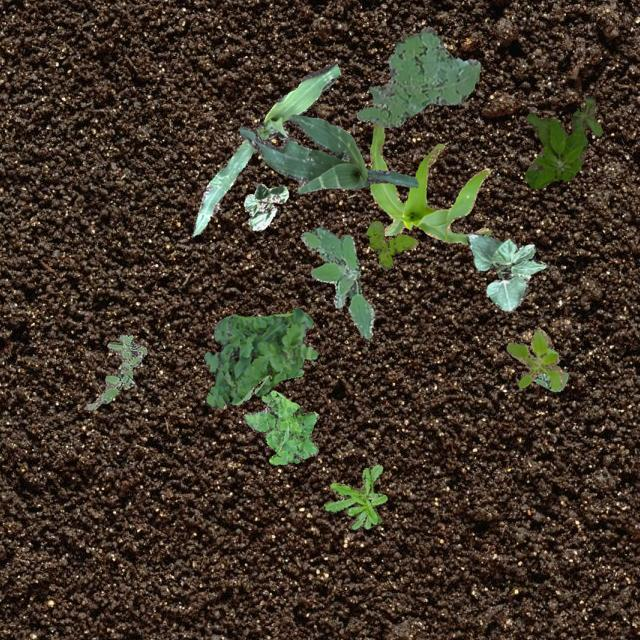crop: (192, 62, 340, 235), (369, 122, 491, 242), (238, 114, 417, 192), (466, 232, 548, 310), (242, 182, 288, 230)
weed: (356, 26, 478, 126), (202, 306, 318, 406), (300, 225, 374, 338), (524, 94, 602, 188), (242, 389, 318, 464), (85, 332, 146, 410), (322, 464, 386, 528), (506, 326, 562, 388), (364, 220, 418, 268), (532, 370, 568, 390)
